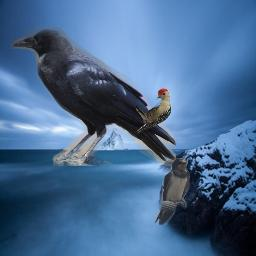Crow: (10, 26, 176, 166)
Swallow: (154, 158, 190, 225)
Woodpecker: (136, 88, 171, 134)
